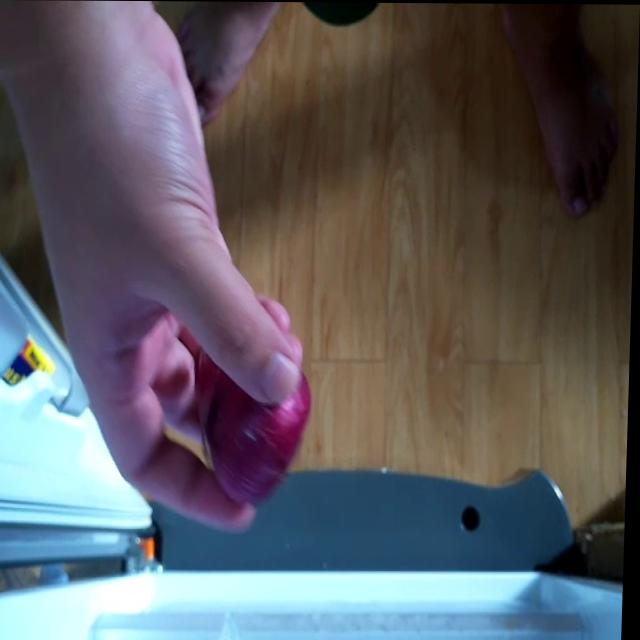onion: (185, 344, 317, 498)
